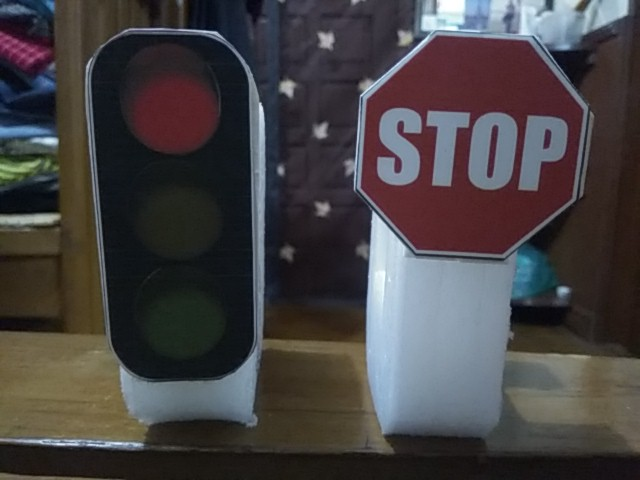Red Traffic Light: (88, 29, 260, 381)
Stop Sign: (357, 31, 594, 261)
